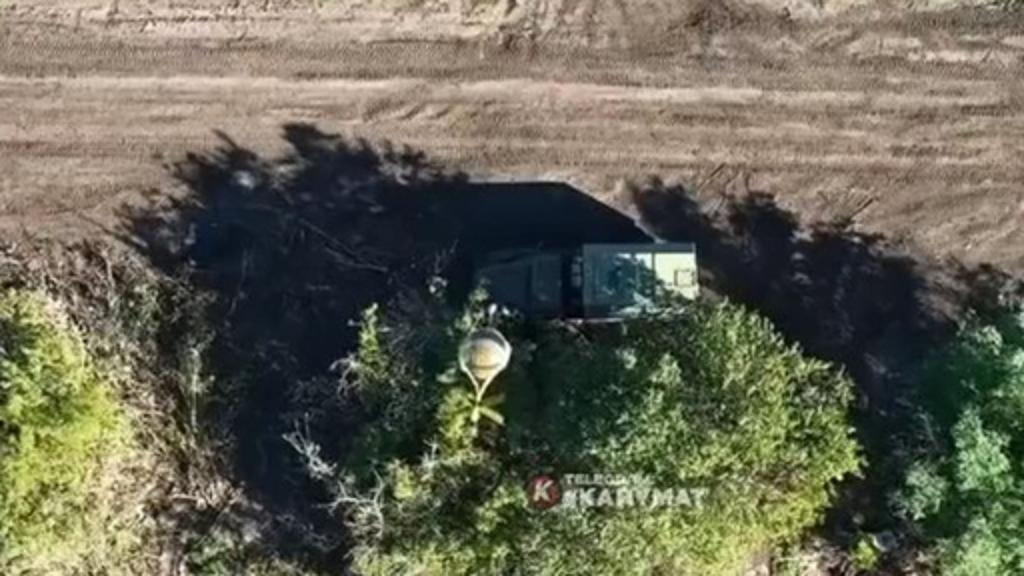TRUCK: (466, 226, 718, 340)
